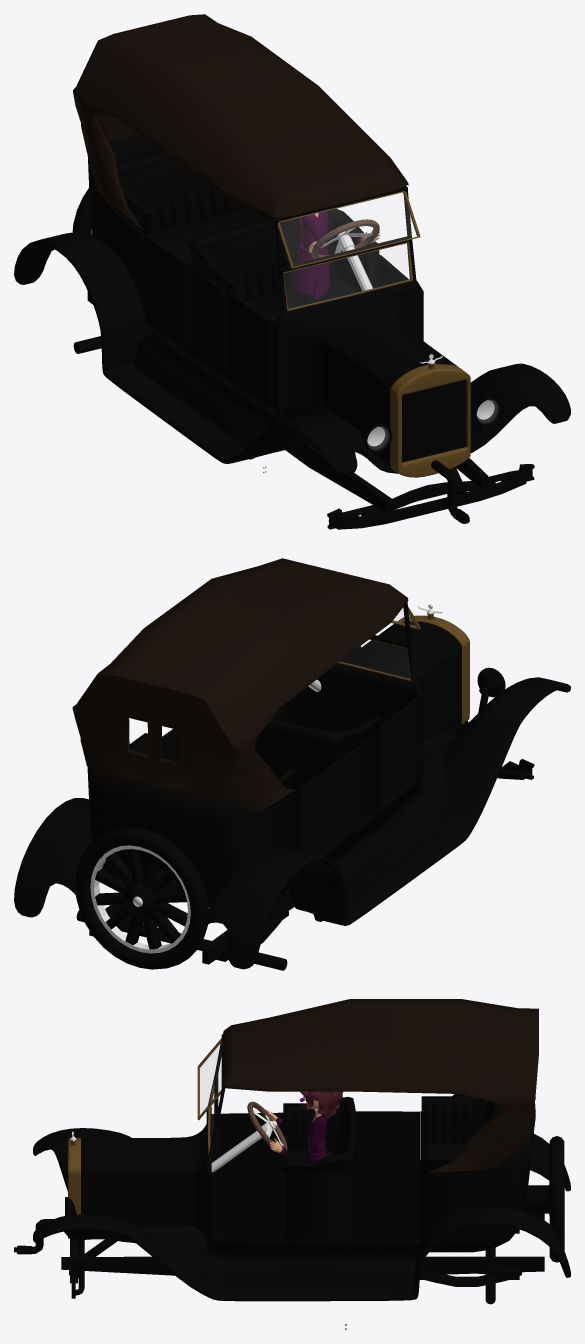
Rendered from ModelT.fbx.
3 renders of one model, top to bottom at view 1: azimuth 30°, elevation 25°; view 2: azimuth 150°, elevation 25°; view 3: azimuth 270°, elevation 25°, orthographic. The views are drawn at different scales.
Parts seen in each view (by area): view 1: chassis hipoly, roof, Christi Avatar, crank; view 2: chassis hipoly, roof; view 3: chassis hipoly, roof, Christi Avatar.
Part boxes in pixels (bbox=[...]): chassis hipoly: bbox=[14, 133, 570, 529]; roof: bbox=[73, 14, 408, 228]; Christi Avatar: bbox=[293, 211, 380, 299]; crank: bbox=[431, 460, 469, 523]; chassis hipoly: bbox=[14, 602, 570, 970]; roof: bbox=[72, 558, 408, 812]; chassis hipoly: bbox=[33, 1034, 570, 1304]; roof: bbox=[221, 999, 538, 1172]; Christi Avatar: bbox=[265, 1091, 342, 1162].
Size of the model in its own units: 234 by 339 by 553.
